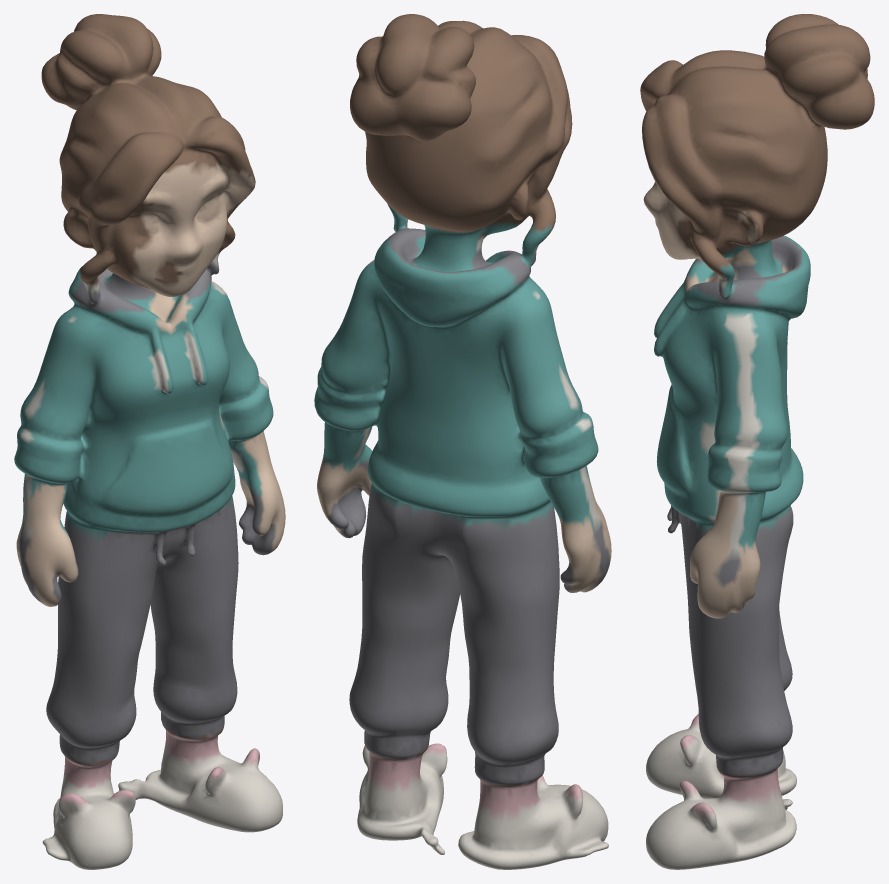
3 renders of one model, left to right at view 1: azimuth 30°, elevation 25°; view 2: azimuth 150°, elevation 25°; view 3: azimuth 270°, elevation 25°, orthographic. The views are drawn at different scales.
Visible parts, largest first — view 1: tmpjodqu76p.ply; view 2: tmpjodqu76p.ply; view 3: tmpjodqu76p.ply.
Part boxes in pixels (left/top/right/bottom): tmpjodqu76p.ply: left=14, top=14, right=285, bottom=869; tmpjodqu76p.ply: left=314, top=14, right=611, bottom=869; tmpjodqu76p.ply: left=640, top=14, right=874, bottom=869.
Bounding box in the file's own units: 0.6897 × 2 × 0.5309.
